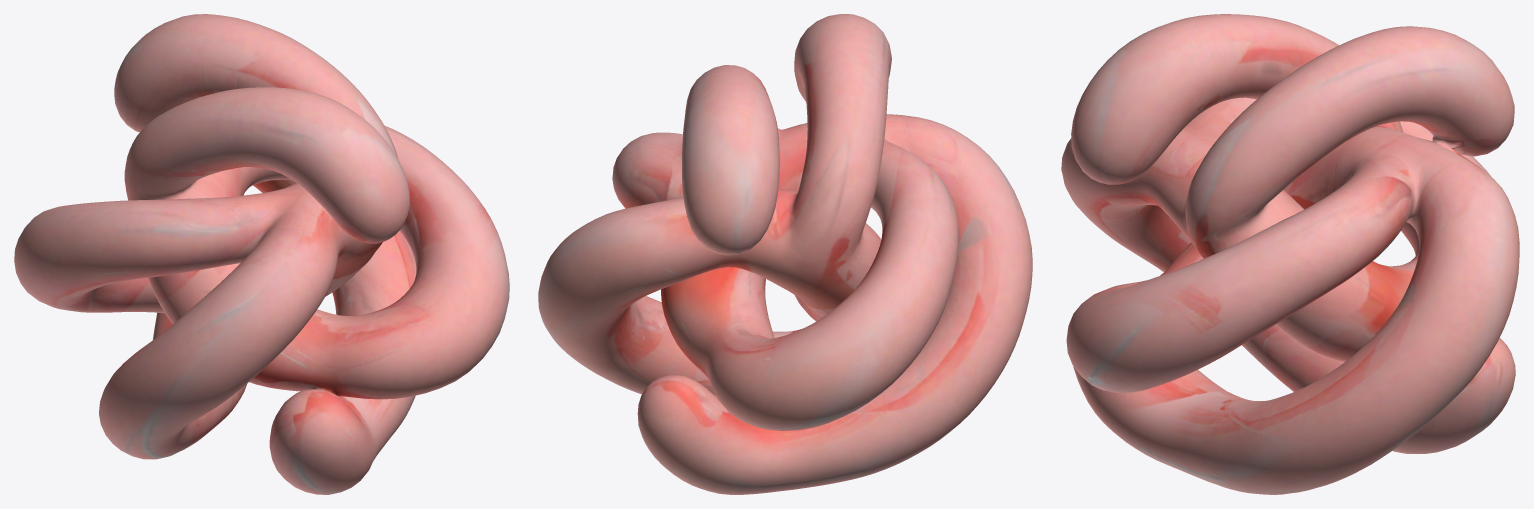
Rendered from Neon_Knot_0109204513_texture.glb.
3 views of the same model, side by side, from view 1: azimuth 30°, elevation 25°; view 2: azimuth 150°, elevation 25°; view 3: azimuth 270°, elevation 25° (orthographic). The views are drawn at different scales.
Size of the model in its own units: 2 by 2 by 1.96.
1 material, 1 textured.
